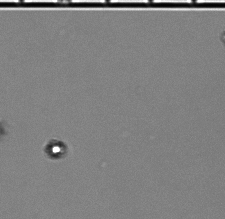Living Cell: (47, 140, 66, 157)
